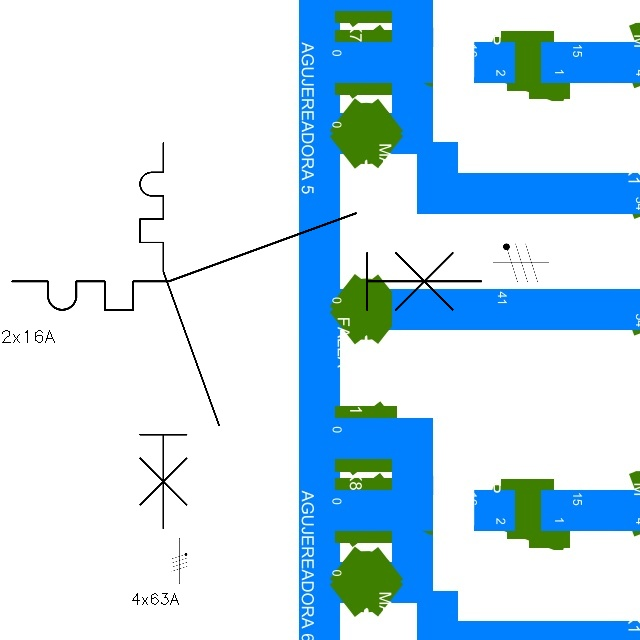interruptor_termomagnetico: (0, 201, 493, 322), (130, 133, 229, 538)
